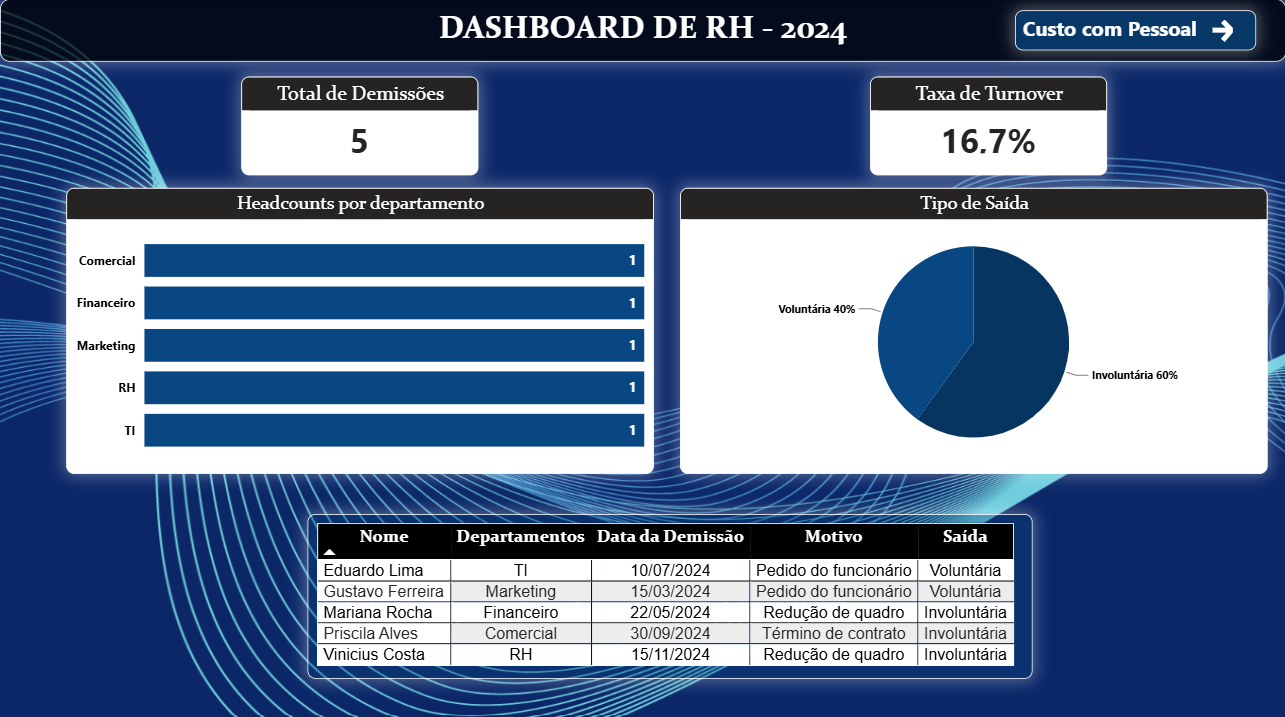

Layout of this report page (visuals, bound fields, positions):
{"tool":"powerbi","page":{"name":"Turnover","canvas":[1280,720],"ordinal":2},"visuals":[{"type":"textbox","title":"hffhfffffff","box":[0,0,1280,62.2],"z":0},{"type":"cardVisual","title":"Total de Demissões","fields":{"Data":["demissoes.Total Demissoes"]},"box":[240.1,77.1,236.4,98.3],"z":1000},{"type":"cardVisual","title":"Taxa de Turnover","fields":{"Data":["historico_salarios.Taxa Turnover Texto"]},"box":[865.8,77.1,236.4,98.3],"z":2000},{"type":"clusteredBarChart","title":"Headcounts por departamento","fields":{"Category":["funcionarios.departamento"],"Y":["demissoes.Total Demissoes"]},"box":[65.9,187.8,584.7,284.9],"z":3000},{"type":"pieChart","title":"Tipo de Saída","fields":{"Category":["demissoes.tipo_saida"],"Y":["demissoes.Total Demissoes"]},"box":[676.7,187.8,584.7,284.9],"z":4000},{"type":"tableEx","title":"Detalhes das Demissões","fields":{"Values":["funcionarios.nome","funcionarios.departamento","demissoes.data_demissao.Variation.Hierarquia de datas.Ano","demissoes.motivo","demissoes.tipo_saida"]},"box":[306,512.5,721.5,164.2],"z":5000},{"type":"actionButton","box":[1010.1,11.2,240.1,39.8],"z":6000}]}

Visuals, with their boxes in screenshot pixels (x1, y1, x2, y2), scaled from the page's 1280x720 canvas onto the 1285x717 screenshot:
"hffhfffffff" textbox: x1=0, y1=0, x2=1284, y2=62
"Total de Demissões" cardVisual: x1=241, y1=77, x2=478, y2=175
"Taxa de Turnover" cardVisual: x1=869, y1=77, x2=1107, y2=175
"Headcounts por departamento" clusteredBarChart: x1=66, y1=187, x2=653, y2=471
"Tipo de Saída" pieChart: x1=679, y1=187, x2=1266, y2=471
"Detalhes das Demissões" tableEx: x1=307, y1=510, x2=1032, y2=674
actionButton: x1=1014, y1=11, x2=1255, y2=51
